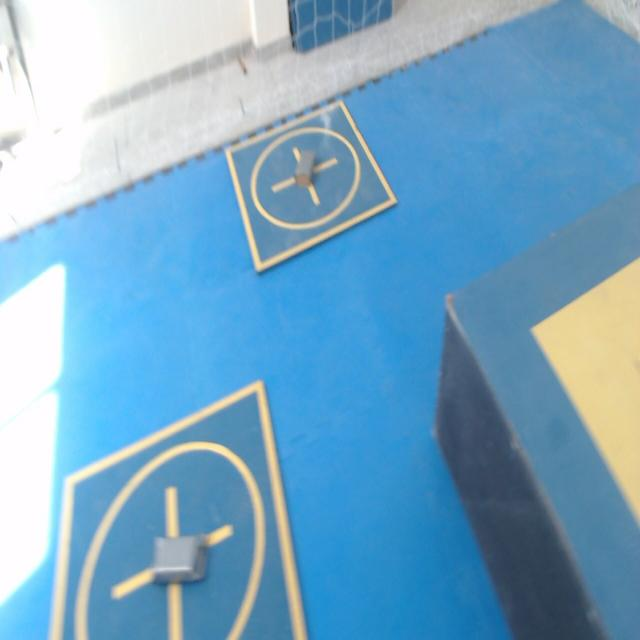direita: (295, 151, 314, 186)
horizontal: (152, 535, 207, 582)
